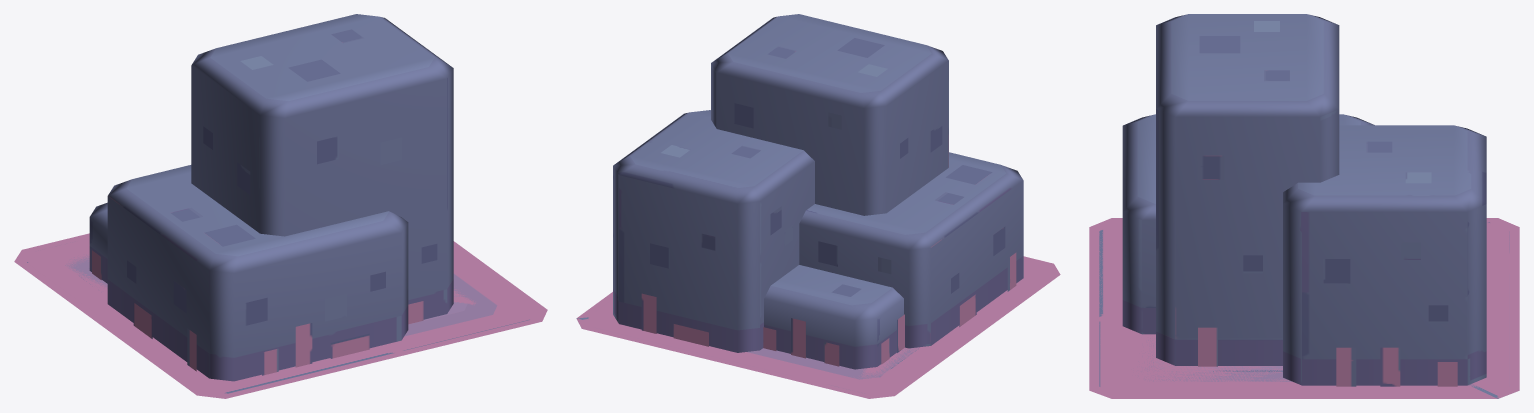
Rendered from B_forest2_rock02.fbx.
3 views of the same model, side by side, from view 1: azimuth 30°, elevation 25°; view 2: azimuth 150°, elevation 25°; view 3: azimuth 270°, elevation 25° (orthographic). The views are drawn at different scales.
Visible parts, largest first — view 1: model 1, model; view 2: model 1, model; view 3: model 1, model.
Boxes of the visible parts, left/top/right/bottom form: model 1: left=14, top=14, right=547, bottom=398; model: left=27, top=238, right=531, bottom=393; model 1: left=576, top=14, right=1060, bottom=398; model: left=588, top=299, right=922, bottom=393; model 1: left=1089, top=14, right=1519, bottom=398; model: left=1099, top=222, right=1509, bottom=394.
Size of the model in its own units: 4.45 by 3 by 4.47.
1 material, 1 textured.
